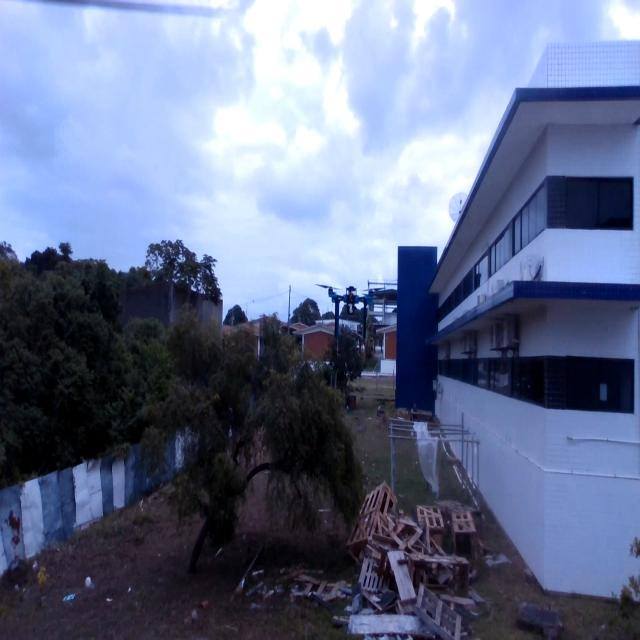-uav-: (310, 265, 394, 353)
